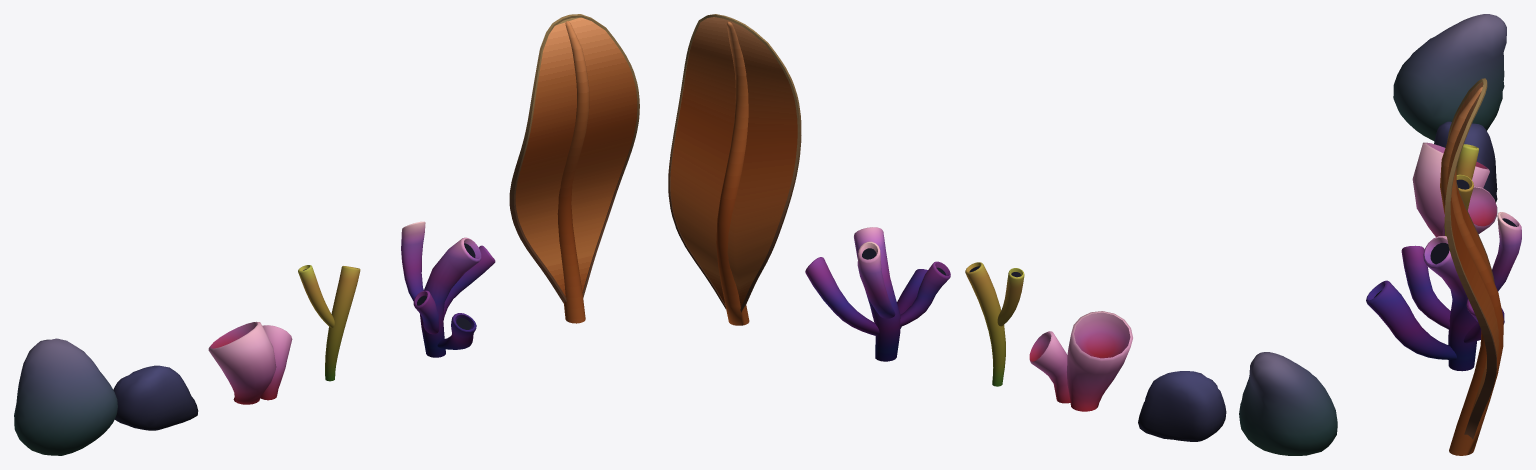
File: Cambrian_Env_Stuff.fbx
3 renders of one model, left to right at view 1: azimuth 30°, elevation 25°; view 2: azimuth 150°, elevation 25°; view 3: azimuth 270°, elevation 25°, orthographic. The views are drawn at different scales.
Parts seen in each view (by area): view 1: Weird_Leaf, Rock1, CoralThing_V1, CoralThing_V3, Rock2, CoralThing_V2; view 2: Weird_Leaf, Rock1, CoralThing_V1, CoralThing_V3, Rock2, CoralThing_V2; view 3: Weird_Leaf, Rock1, CoralThing_V1, CoralThing_V3, Rock2, CoralThing_V2.
Boxes of the visible parts, bbox=[...] form: Weird_Leaf: bbox=[509, 14, 639, 323]; Rock1: bbox=[14, 338, 117, 455]; CoralThing_V1: bbox=[401, 221, 495, 357]; CoralThing_V3: bbox=[208, 321, 292, 404]; Rock2: bbox=[113, 365, 198, 430]; CoralThing_V2: bbox=[298, 265, 360, 381]; Weird_Leaf: bbox=[668, 14, 801, 325]; Rock1: bbox=[1239, 352, 1337, 455]; CoralThing_V1: bbox=[805, 227, 950, 361]; CoralThing_V3: bbox=[1029, 311, 1132, 411]; Rock2: bbox=[1138, 371, 1226, 441]; CoralThing_V2: bbox=[965, 262, 1024, 386]; Weird_Leaf: bbox=[1440, 78, 1503, 455]; Rock1: bbox=[1393, 14, 1506, 141]; CoralThing_V1: bbox=[1366, 212, 1521, 371]; CoralThing_V3: bbox=[1412, 142, 1497, 236]; Rock2: bbox=[1434, 121, 1497, 202]; CoralThing_V2: bbox=[1444, 144, 1478, 236].
Size of the model in its own units: 11.75 by 5.37 by 2.05.
